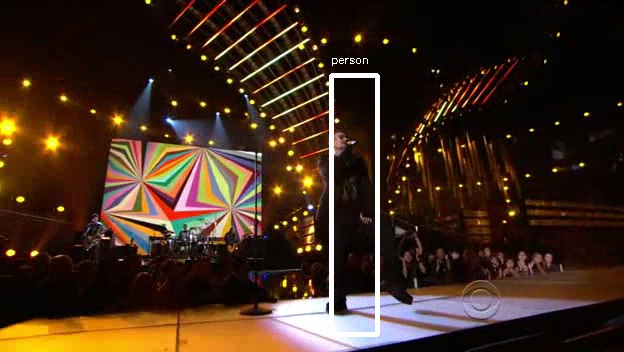person: (315, 132, 383, 250), (312, 132, 380, 250), (318, 132, 386, 250), (315, 129, 383, 247), (315, 135, 383, 253)
target_negative: (12, 66, 559, 200), (47, 117, 501, 273), (239, 138, 460, 184), (441, 304, 609, 343), (131, 331, 565, 345), (585, 43, 595, 179)
